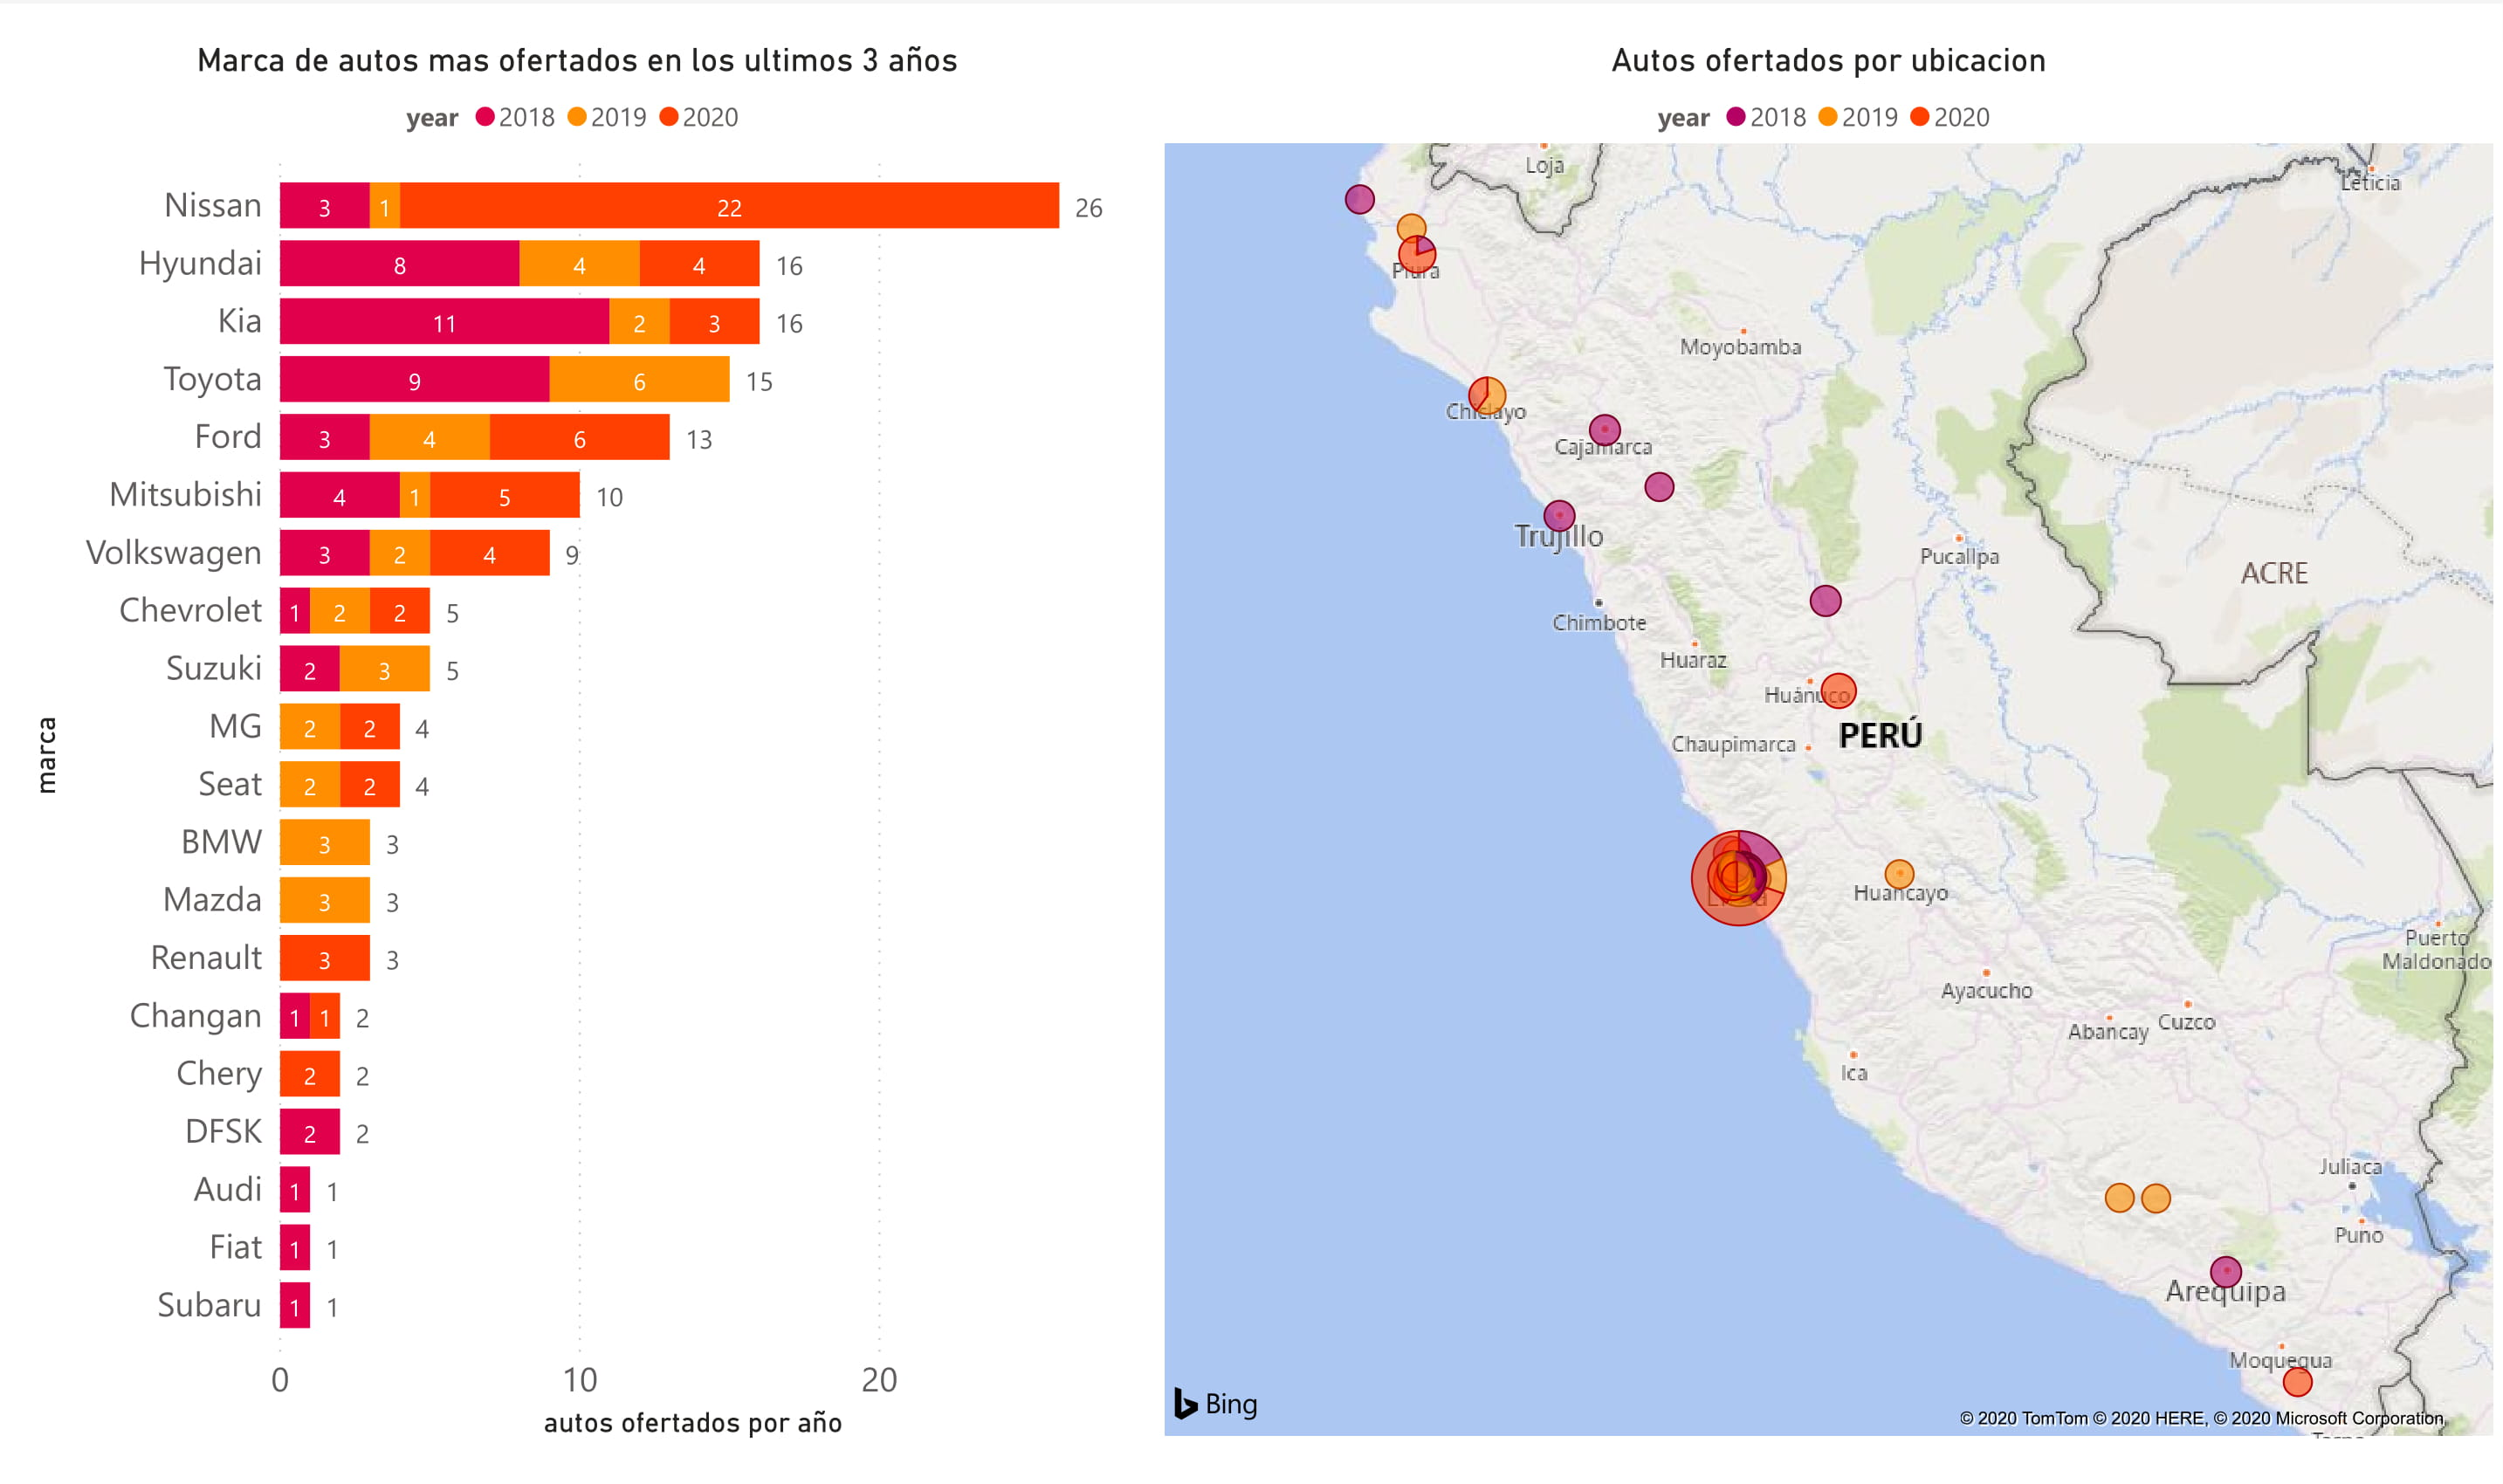

What the dashboard file says about the page in this screenshot:
{"tool":"powerbi","page":{"name":"Página 2","canvas":[1280,720],"ordinal":2},"visuals":[{"type":"barChart","title":"Marca de autos mas ofertados en los ultimos 3 años","fields":{"Category":["public autos.marca"],"Series":["public autos.year"],"Y":["public autos.autos por año"]},"box":[10.2,0,570.6,719.6],"z":0},{"type":"map","title":"Autos ofertados por ubicacion","fields":{"Category":["public autos.lugar"],"Series":["public autos.year"],"Size":["public autos.autos ofertados por año"]},"box":[590.9,0,689.1,719.6],"z":1000}]}

Visuals, with their boxes on the page's 1280x720 design canvas (x1, y1, x2, y2). These are canvas units, not pixel positions in the 2503x1484 screenshot, which may show the page scaled, cropped or inside an application window:
"Marca de autos mas ofertados en los ultimos 3 años" barChart: bbox(10, 0, 581, 720)
"Autos ofertados por ubicacion" map: bbox(591, 0, 1280, 720)
